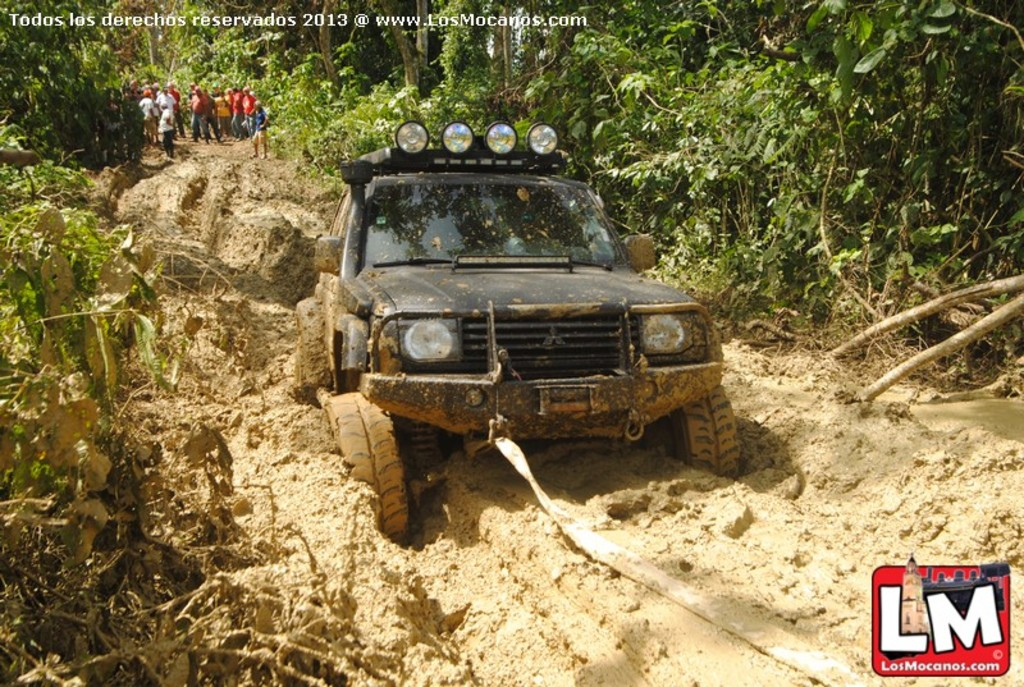Car: (290, 115, 746, 532)
